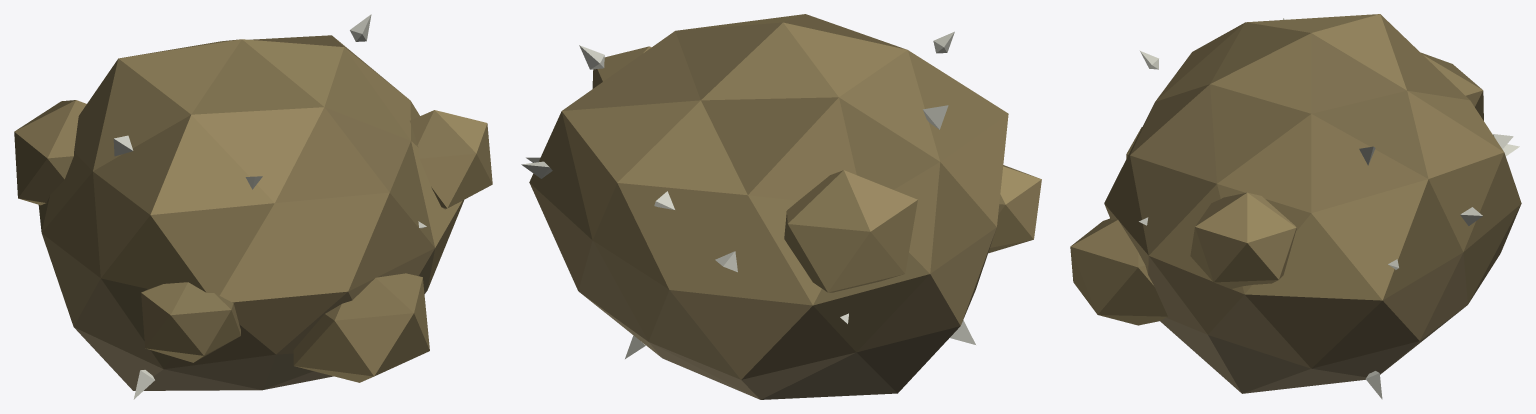
File: storm_sand.glb
3 views of the same model, side by side, from view 1: azimuth 30°, elevation 25°; view 2: azimuth 150°, elevation 25°; view 3: azimuth 270°, elevation 25° (orthographic). The views are drawn at different scales.
Parts seen in each view (by area): view 1: Mesh; view 2: Mesh; view 3: Mesh.
Part boxes in pixels (x1,y1,x2,y2): Mesh: [14, 14, 492, 399]; Mesh: [521, 14, 1041, 399]; Mesh: [1070, 14, 1521, 399].
Size of the model in its own units: 0.5561 by 0.4538 by 0.5795.
